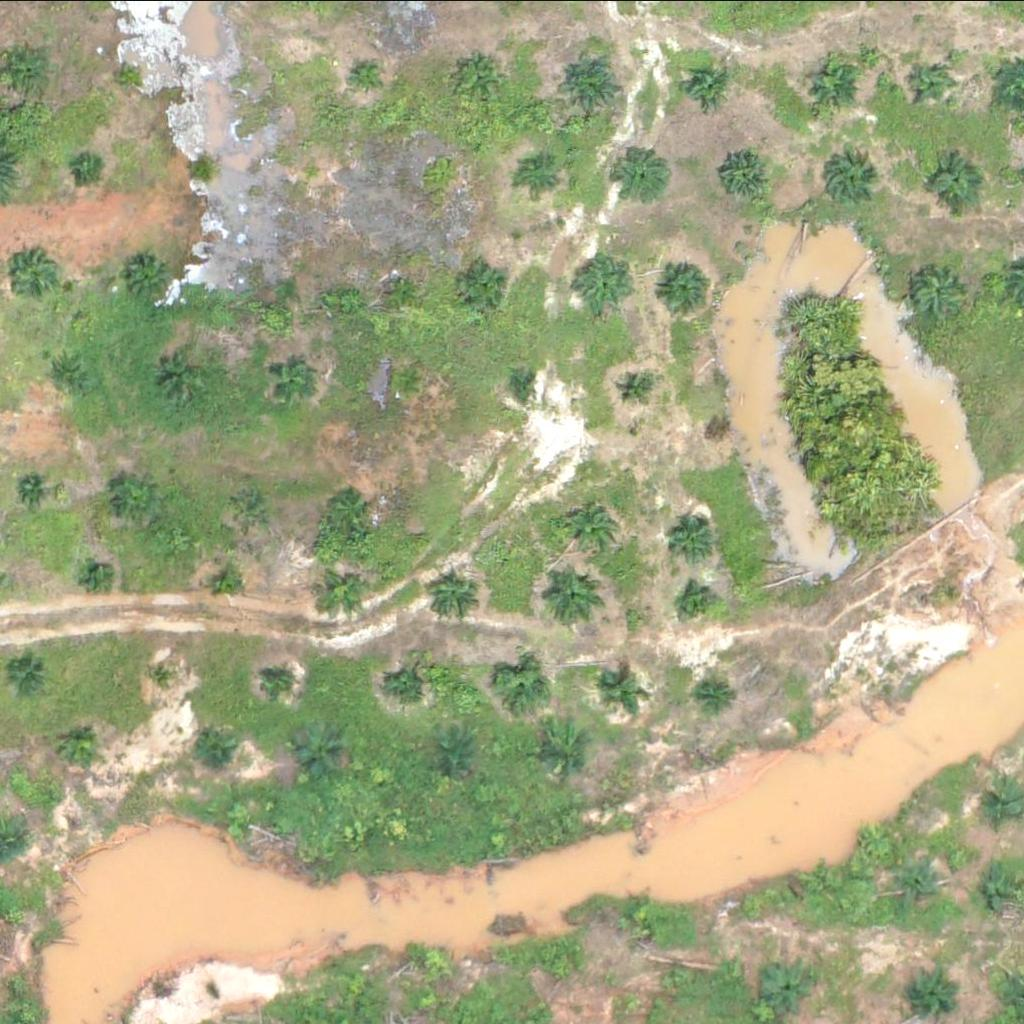Kelapa_Sawit: (559, 50, 622, 113), (560, 496, 623, 559), (656, 257, 719, 319), (798, 53, 861, 115), (574, 253, 637, 315), (542, 563, 605, 625), (325, 479, 376, 529), (932, 160, 983, 210), (618, 149, 669, 199), (917, 266, 968, 316), (719, 152, 770, 202), (683, 61, 734, 111), (455, 259, 506, 309), (319, 566, 370, 616), (58, 720, 109, 770), (901, 966, 951, 1016), (896, 859, 946, 909), (765, 960, 815, 1010), (822, 155, 872, 205), (6, 40, 56, 90), (390, 658, 440, 708), (499, 660, 549, 710), (432, 571, 482, 621), (668, 511, 718, 561), (12, 251, 62, 301), (126, 248, 176, 298), (265, 351, 315, 401), (158, 351, 208, 401), (44, 344, 94, 394), (114, 471, 164, 521), (298, 724, 348, 774), (549, 722, 599, 772), (524, 158, 562, 196), (803, 863, 841, 901), (604, 673, 642, 711), (695, 672, 733, 710), (678, 585, 716, 623), (655, 959, 693, 997), (542, 949, 580, 987), (417, 943, 455, 981), (199, 732, 237, 770), (467, 54, 505, 91), (911, 65, 949, 102), (615, 367, 653, 404), (617, 896, 655, 933), (391, 362, 428, 400), (236, 488, 273, 526), (437, 733, 475, 770), (385, 270, 423, 307), (15, 654, 52, 691), (75, 156, 101, 181), (357, 63, 382, 88), (113, 63, 138, 88), (512, 373, 537, 398), (85, 565, 110, 590), (215, 572, 240, 597), (154, 660, 179, 685), (266, 666, 291, 691), (302, 157, 327, 182), (21, 478, 46, 502)
